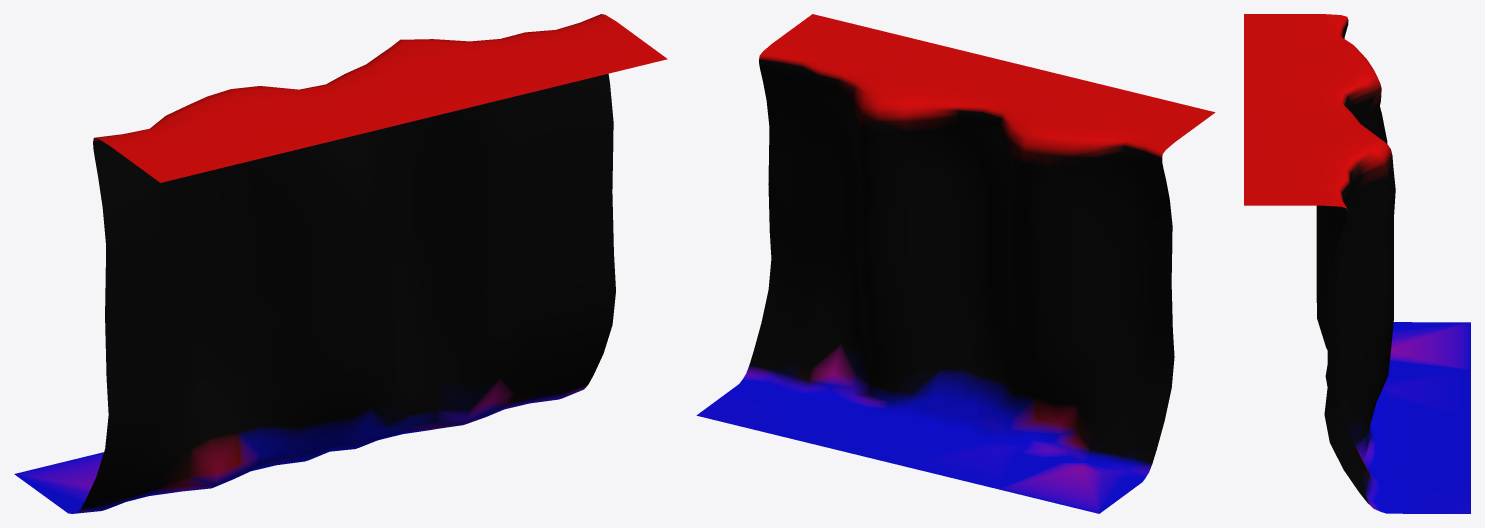
File: GroundCliff02A 3M for Water Background.fbx
3 views of the same model, side by side, from view 1: azimuth 30°, elevation 25°; view 2: azimuth 150°, elevation 25°; view 3: azimuth 270°, elevation 25° (orthographic). The views are drawn at different scales.
Parts seen in each view (by area): view 1: GroundCliff02A 3M for Water Background; view 2: GroundCliff02A 3M for Water Background; view 3: GroundCliff02A 3M for Water Background.
Boxes of the visible parts, left/top/right/bottom form: GroundCliff02A 3M for Water Background: left=14, top=14, right=667, bottom=513; GroundCliff02A 3M for Water Background: left=696, top=14, right=1215, bottom=513; GroundCliff02A 3M for Water Background: left=1244, top=14, right=1470, bottom=513.
Bounding box in the file's own units: 4 × 3 × 2.
